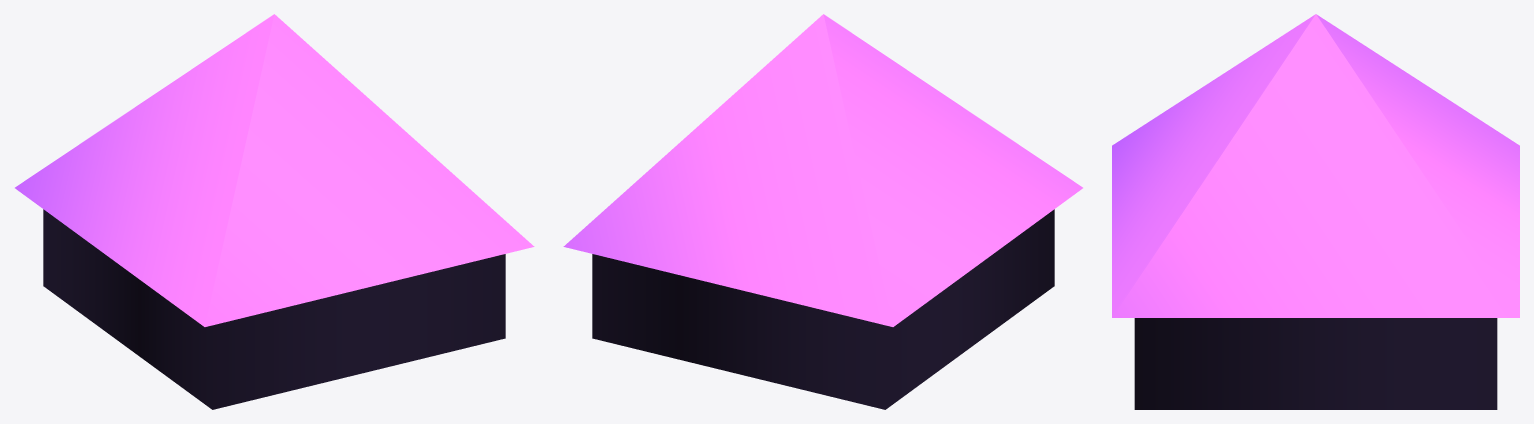
Rendered from about-tent.glb.
3 renders of one model, left to right at view 1: azimuth 30°, elevation 25°; view 2: azimuth 150°, elevation 25°; view 3: azimuth 270°, elevation 25°, orthographic. The views are drawn at different scales.
Visible parts, largest first — view 1: roof, base; view 2: roof, base; view 3: roof, base.
Boxes of the visible parts, bbox=[...] form: roof: bbox=[15, 14, 534, 326]; base: bbox=[43, 209, 505, 409]; roof: bbox=[563, 14, 1082, 326]; base: bbox=[592, 209, 1054, 409]; roof: bbox=[1112, 14, 1519, 317]; base: bbox=[1134, 318, 1497, 409].
Size of the model in its own units: 5.09 by 4.4 by 5.09.
